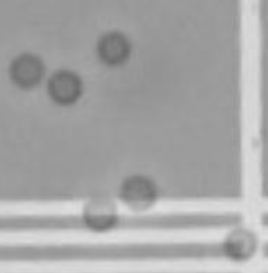cell: (114, 167, 162, 215), (3, 48, 49, 94), (91, 26, 136, 70), (77, 189, 120, 234), (43, 65, 87, 107), (219, 223, 259, 263)
